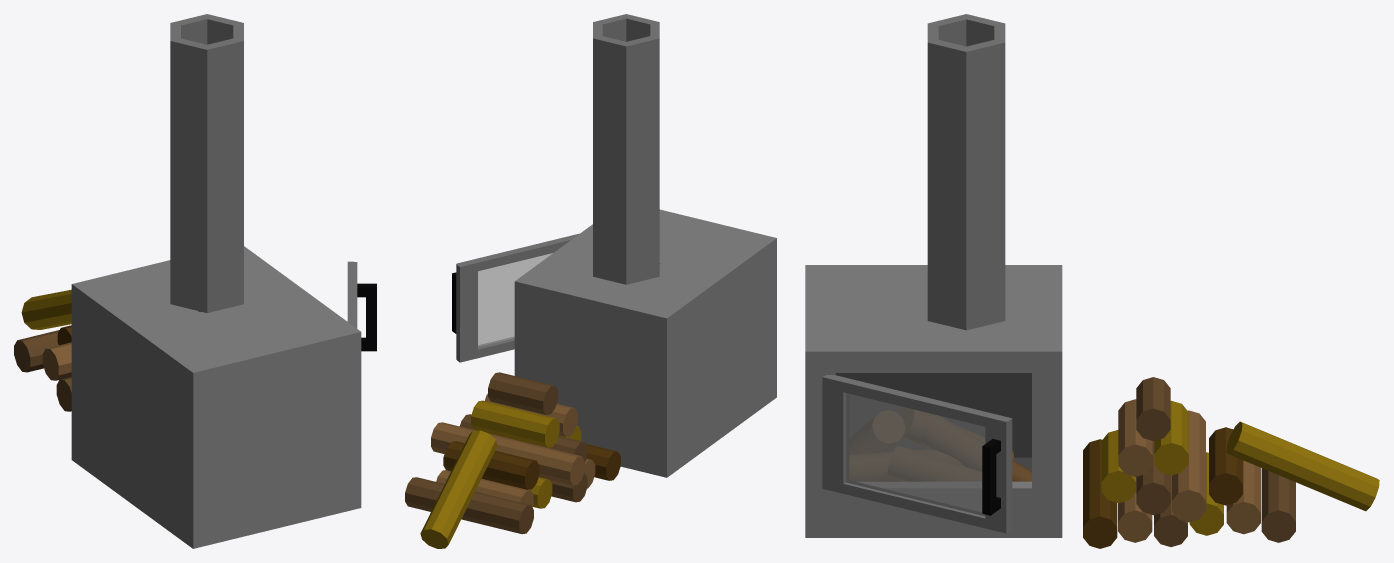
Rendered from Fire Place.fbx.
3 renders of one model, left to right at view 1: azimuth 30°, elevation 25°; view 2: azimuth 150°, elevation 25°; view 3: azimuth 270°, elevation 25°, orthographic. The views are drawn at different scales.
Parts seen in each view (by area): view 1: pCube4; view 2: pCube4; view 3: pCube4.
Part boxes in pixels (x1,y1,x2,y2): pCube4: (14,14,376,548); pCube4: (405,14,776,548); pCube4: (805,14,1379,548).
Bounding box in the file's own units: 12.9 × 20.03 × 22.36.
